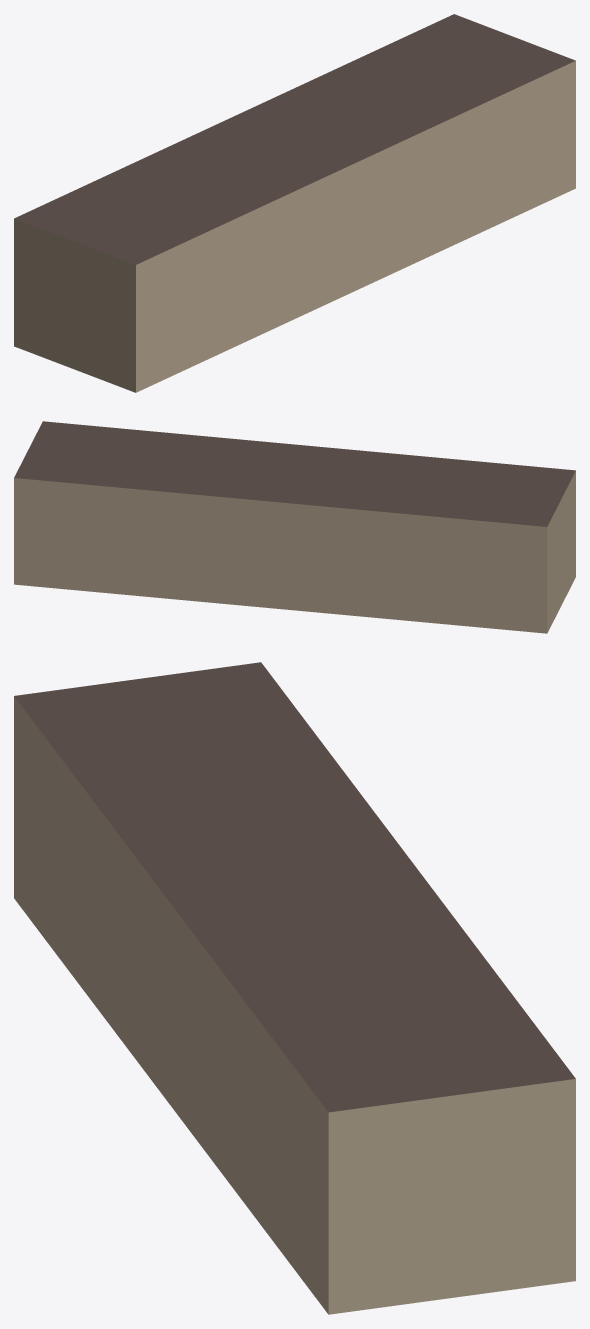
3 views of the same model, one above another, from view 1: azimuth 30°, elevation 25°; view 2: azimuth 150°, elevation 25°; view 3: azimuth 270°, elevation 25° (orthographic). The views are drawn at different scales.
Visible parts, largest first — view 1: HP-w299011326; view 2: HP-w299011326; view 3: HP-w299011326.
Part boxes in pixels (x1,y1,x2,y2): HP-w299011326: (14,14,575,392); HP-w299011326: (14,421,575,633); HP-w299011326: (14,662,575,1314).
Size of the model in its own units: 42.96 by 9 by 22.66.
